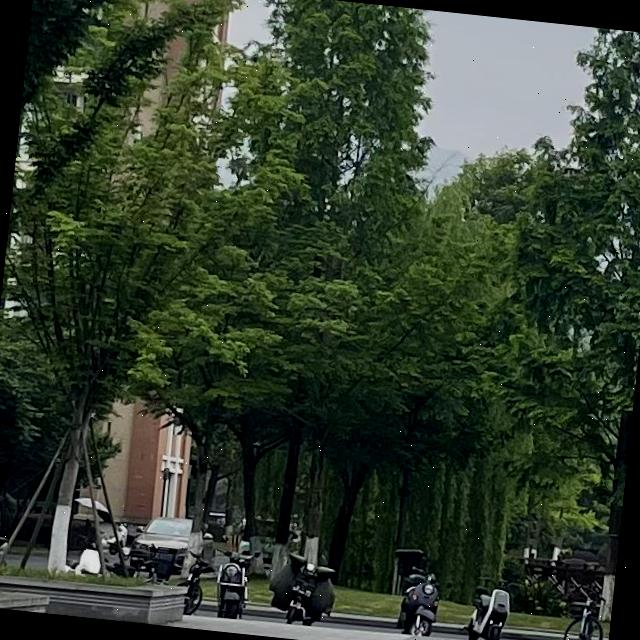curb: (320, 616, 397, 629), (499, 631, 561, 640), (243, 609, 286, 619), (432, 625, 466, 634), (197, 604, 218, 612)
